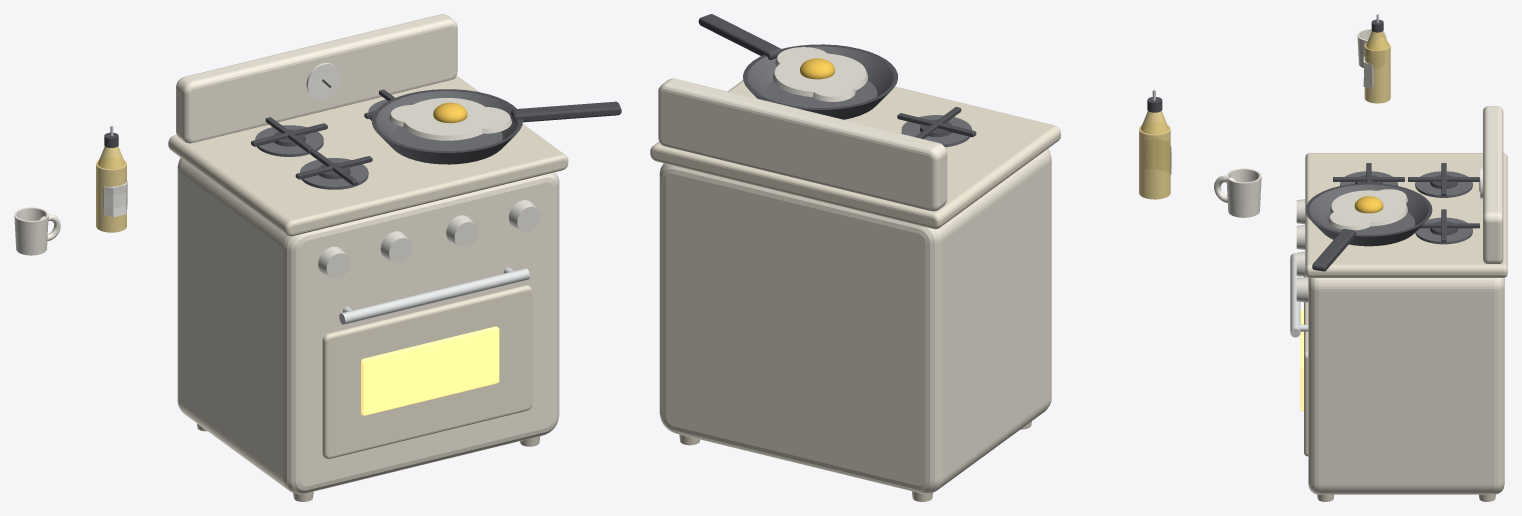
Rendered from soraine_arranged_repaired.glb.
The picture shows the model from 3 angles, left to right: view 1: azimuth 30°, elevation 25°; view 2: azimuth 150°, elevation 25°; view 3: azimuth 270°, elevation 25°; orthographic projection. The views are drawn at different scales.
Visible parts, largest first — view 1: stove, pan, egg, bottle, mug; view 2: stove, pan, egg, bottle, mug; view 3: stove, pan, egg, bottle, mug.
Boxes of the visible parts, bbox=[...] form: stove: bbox=[168, 14, 568, 501]; pan: bbox=[372, 89, 621, 164]; egg: bbox=[389, 98, 511, 140]; bottle: bbox=[96, 146, 127, 232]; mug: bbox=[14, 207, 60, 255]; stove: bbox=[650, 78, 1060, 501]; pan: bbox=[698, 14, 897, 119]; egg: bbox=[773, 47, 867, 101]; bottle: bbox=[1139, 111, 1171, 199]; mug: bbox=[1214, 168, 1261, 217]; stove: bbox=[1290, 106, 1507, 501]; pan: bbox=[1305, 183, 1432, 271]; egg: bbox=[1328, 189, 1407, 230]; bottle: bbox=[1363, 31, 1390, 103]; mug: bbox=[1357, 29, 1386, 67].
Bounding box in the file's own units: 1.93 × 1.24 × 0.752.
